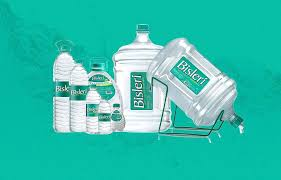Bisleri: (171, 60, 207, 89), (129, 72, 155, 112), (91, 76, 116, 97), (53, 81, 71, 98), (70, 87, 86, 101), (113, 109, 125, 123), (86, 105, 96, 118), (101, 115, 111, 120)
plastic: (118, 48, 243, 126), (56, 49, 124, 134)
